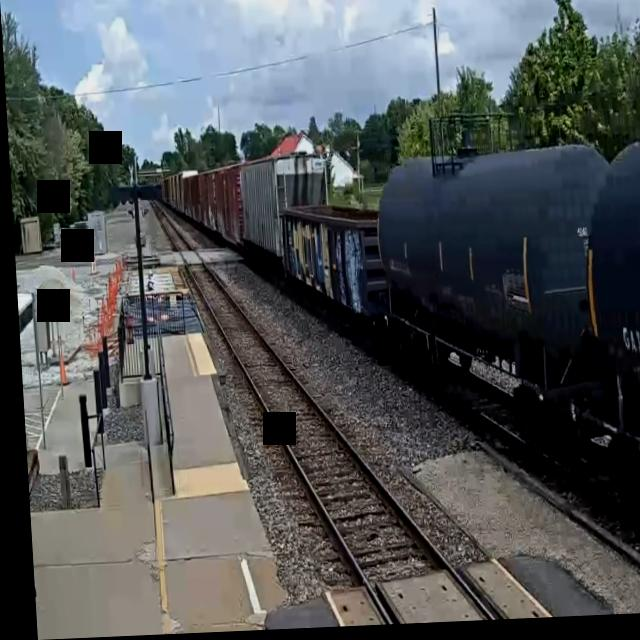gondola: (273, 191, 391, 351)
hopper: (231, 147, 333, 278)
tank: (364, 118, 618, 480), (557, 111, 640, 528)
